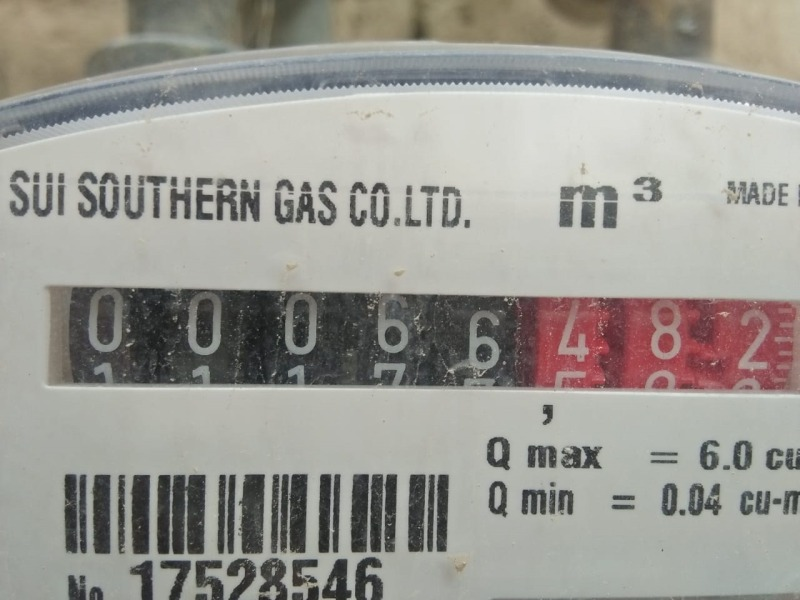ssgc: (37, 279, 796, 393)
